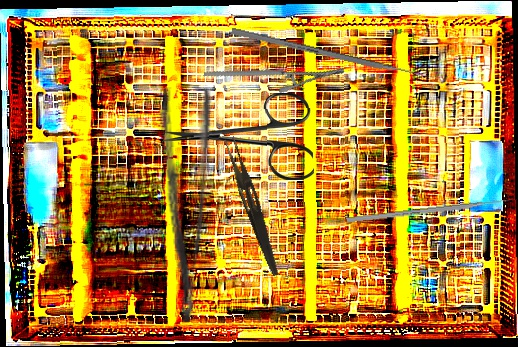Dressing Forceps: (140, 86, 216, 323), (218, 135, 287, 278)
Iris Scissors: (162, 92, 314, 183)
Needle Holder: (203, 26, 346, 118)
Pusher: (230, 27, 437, 82), (346, 196, 518, 224)
